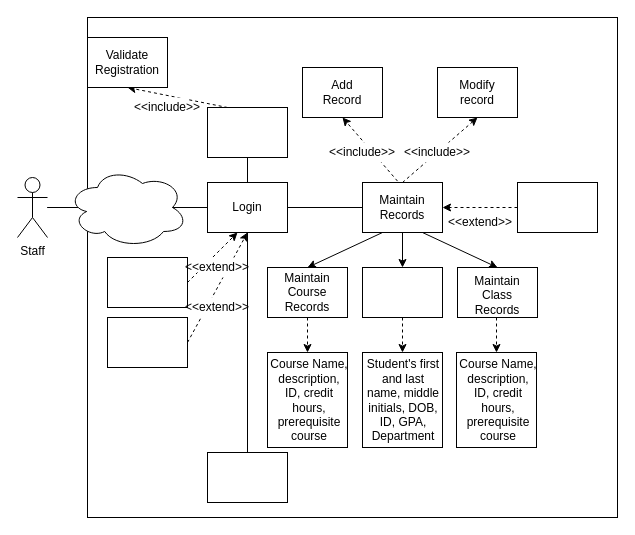
Image size: 635x535. Some labels were removed from this diagram. The box of each missing label's shape, as (x1, y1, x2, y2) in pixels:
Delete Record: (516, 182, 598, 232)
Internet: (66, 166, 188, 248)
Maintain Student Records: (362, 266, 442, 318)
Mobile App: (106, 316, 188, 368)
Register: (206, 106, 288, 158)
Register Student for classes: (206, 452, 288, 502)
Website: (106, 256, 188, 308)
